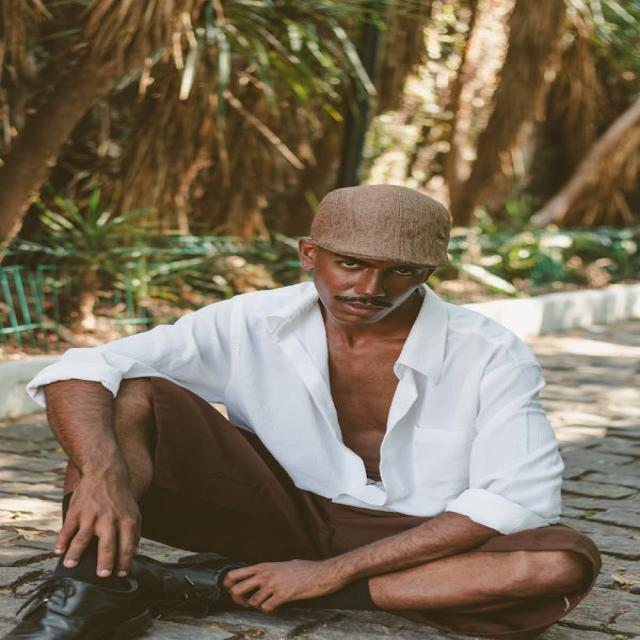Real human 2: (28, 175, 615, 640)
